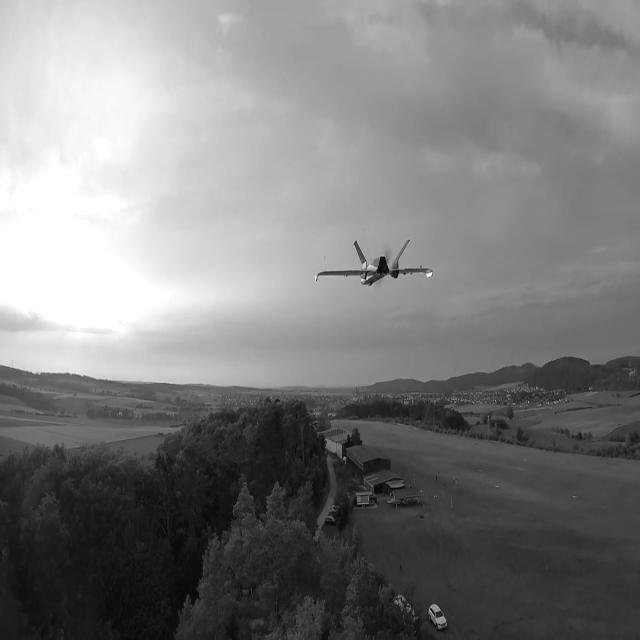iha: (346, 232, 406, 289)
